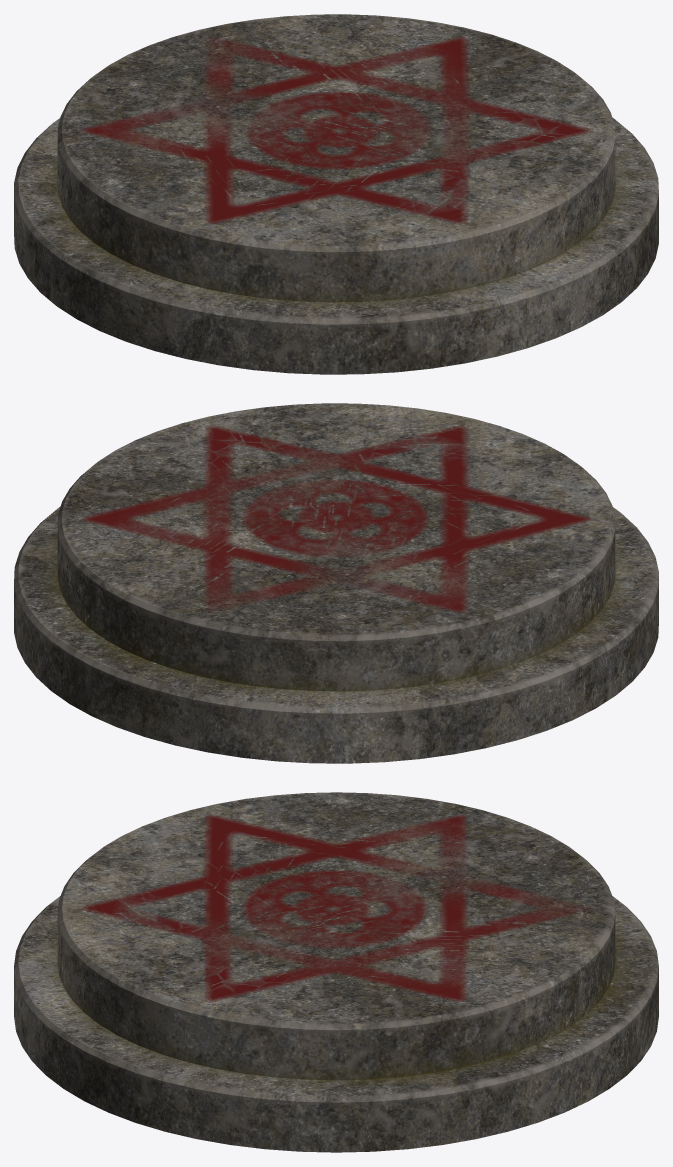
File: underground_hexagram_02.fbx
3 views of the same model, one above another, from view 1: azimuth 30°, elevation 25°; view 2: azimuth 150°, elevation 25°; view 3: azimuth 270°, elevation 25° (orthographic).
Parts seen in each view (by area): view 1: underground_hexagram_002; view 2: underground_hexagram_002; view 3: underground_hexagram_002.
Part boxes in pixels (x1,y1,x2,y2): underground_hexagram_002: (14,14,658,374); underground_hexagram_002: (14,403,658,763); underground_hexagram_002: (14,792,658,1152).
Bounding box in the file's own units: 379 × 70 × 379.
Materials: 1 (1 with a texture image).
